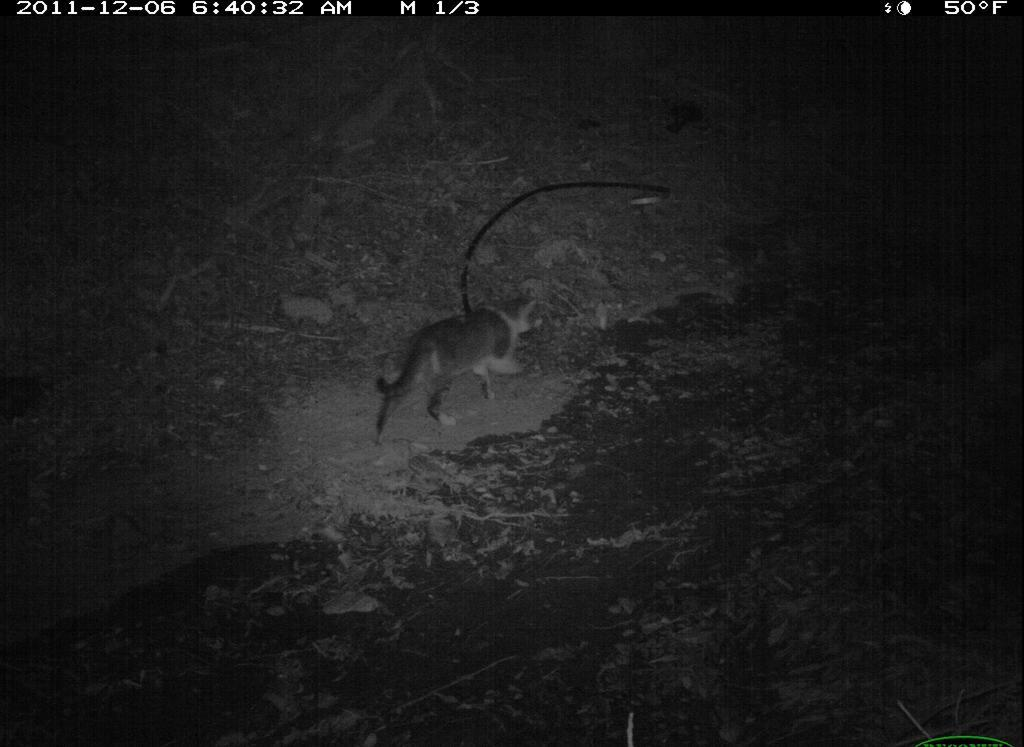cat: (372, 289, 557, 447)
